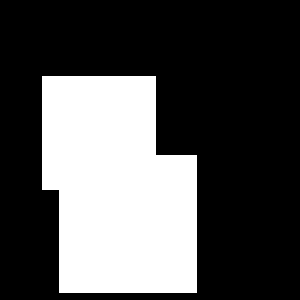circle: (59, 155, 197, 293), (42, 76, 156, 190)
